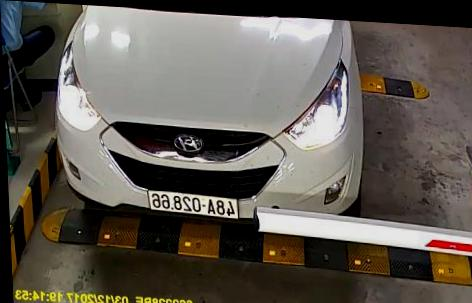License_Plate: (148, 188, 239, 219)
